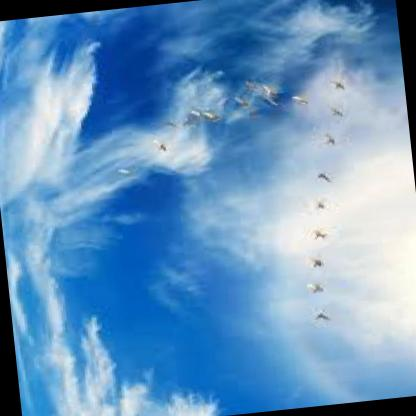bird: (251, 80, 293, 112), (311, 94, 352, 125), (303, 163, 341, 190), (298, 248, 328, 276), (141, 133, 173, 159), (296, 278, 334, 299), (303, 223, 331, 247), (324, 70, 348, 94)
